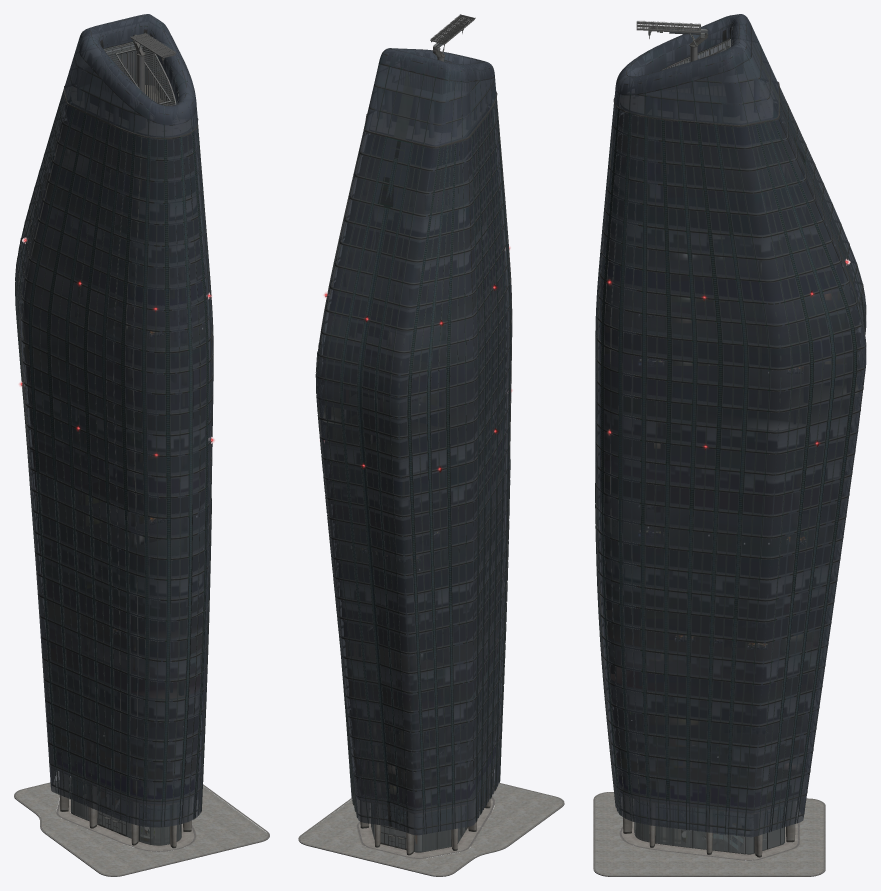
The model's file is skyline-lite.glb.
3 views of the same model, side by side, from view 1: azimuth 30°, elevation 25°; view 2: azimuth 150°, elevation 25°; view 3: azimuth 270°, elevation 25° (orthographic). The views are drawn at different scales.
Visible parts, largest first — view 1: Glass_Generic_Glass_Generic_0, Building_Facade_Building_Facade_0, Interior_Top_Interior_Top_0, Glass_Generic_More_Opaque_Glass_Generic_More_Opaque_0, Sidewalk_02_Sidewalk_02_0, Interior_Blinds_Interior_Blinds_0, Top_Piece_Top_Piece_0, Sidewalk_01_Sidewalk_01_0, Concrete_Pillar_Concrete_Pillar_0, Glass_Lobby_Glass_Lobby_0, Building_Maintenance_Unit_Building_Maintenance_Unit_0, Lobby_Curtains_Lobby_Curtains_0; view 2: Glass_Generic_Glass_Generic_0, Building_Facade_Building_Facade_0, Interior_Top_Interior_Top_0, Glass_Generic_More_Opaque_Glass_Generic_More_Opaque_0, Sidewalk_02_Sidewalk_02_0, Interior_Blinds_Interior_Blinds_0, Top_Piece_Top_Piece_0, Sidewalk_01_Sidewalk_01_0, Concrete_Pillar_Concrete_Pillar_0, Glass_Lobby_Glass_Lobby_0, Building_Maintenance_Unit_Building_Maintenance_Unit_0, Lobby_Curtains_Lobby_Curtains_0; view 3: Glass_Generic_Glass_Generic_0, Building_Facade_Building_Facade_0, Interior_Top_Interior_Top_0, Glass_Generic_More_Opaque_Glass_Generic_More_Opaque_0, Interior_Blinds_Interior_Blinds_0, Sidewalk_02_Sidewalk_02_0, Top_Piece_Top_Piece_0, Sidewalk_01_Sidewalk_01_0, Glass_Lobby_Glass_Lobby_0, Concrete_Pillar_Concrete_Pillar_0, Building_Maintenance_Unit_Building_Maintenance_Unit_0, Lobby_Curtains_Lobby_Curtains_0 (+2 smaller).
Boxes of the visible parts, <box> form: Glass_Generic_Glass_Generic_0: <box>16,89,213,827</box>; Building_Facade_Building_Facade_0: <box>15,15,213,845</box>; Interior_Top_Interior_Top_0: <box>21,105,208,798</box>; Glass_Generic_More_Opaque_Glass_Generic_More_Opaque_0: <box>64,14,197,137</box>; Sidewalk_02_Sidewalk_02_0: <box>16,779,267,875</box>; Interior_Blinds_Interior_Blinds_0: <box>29,157,205,795</box>; Top_Piece_Top_Piece_0: <box>70,42,195,135</box>; Sidewalk_01_Sidewalk_01_0: <box>14,780,269,876</box>; Concrete_Pillar_Concrete_Pillar_0: <box>59,772,191,848</box>; Glass_Lobby_Glass_Lobby_0: <box>71,782,181,844</box>; Building_Maintenance_Unit_Building_Maintenance_Unit_0: <box>130,32,176,93</box>; Lobby_Curtains_Lobby_Curtains_0: <box>73,782,179,844</box>; Glass_Generic_Glass_Generic_0: <box>316,99,511,835</box>; Building_Facade_Building_Facade_0: <box>315,48,512,852</box>; Interior_Top_Interior_Top_0: <box>321,107,506,807</box>; Glass_Generic_More_Opaque_Glass_Generic_More_Opaque_0: <box>364,48,496,146</box>; Sidewalk_02_Sidewalk_02_0: <box>300,783,562,875</box>; Interior_Blinds_Interior_Blinds_0: <box>326,207,502,803</box>; Top_Piece_Top_Piece_0: <box>370,71,494,144</box>; Sidewalk_01_Sidewalk_01_0: <box>298,783,564,876</box>; Concrete_Pillar_Concrete_Pillar_0: <box>360,782,490,855</box>; Glass_Lobby_Glass_Lobby_0: <box>371,804,466,852</box>; Building_Maintenance_Unit_Building_Maintenance_Unit_0: <box>430,14,475,61</box>; Lobby_Curtains_Lobby_Curtains_0: <box>417,811,459,851</box>; Glass_Generic_Glass_Generic_0: <box>595,87,866,837</box>; Building_Facade_Building_Facade_0: <box>595,14,866,854</box>; Interior_Top_Interior_Top_0: <box>600,104,860,807</box>; Glass_Generic_More_Opaque_Glass_Generic_More_Opaque_0: <box>614,14,778,124</box>; Interior_Blinds_Interior_Blinds_0: <box>605,175,854,802</box>; Sidewalk_02_Sidewalk_02_0: <box>595,792,823,875</box>; Top_Piece_Top_Piece_0: <box>620,38,772,122</box>; Sidewalk_01_Sidewalk_01_0: <box>593,792,825,876</box>; Glass_Lobby_Glass_Lobby_0: <box>634,800,784,853</box>; Concrete_Pillar_Concrete_Pillar_0: <box>623,795,795,857</box>; Building_Maintenance_Unit_Building_Maintenance_Unit_0: <box>636,21,707,93</box>; Lobby_Curtains_Lobby_Curtains_0: <box>637,802,779,852</box>.
Size of the model in its own units: 37.24 by 167 by 50.88.
Materials: 20 (18 with a texture image).
